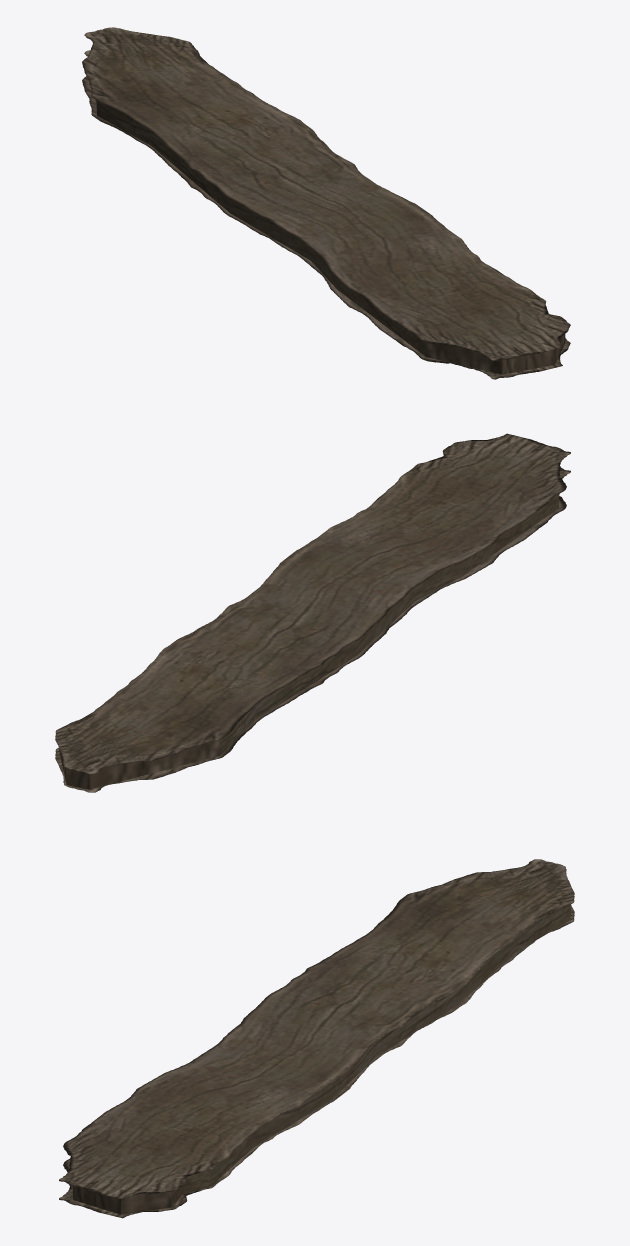
File: MEP_Plank_02.fbx
The picture shows the model from 3 angles, top to bottom: view 1: azimuth 30°, elevation 25°; view 2: azimuth 150°, elevation 25°; view 3: azimuth 330°, elevation 25°; orthographic projection. The views are drawn at different scales.
Visible parts, largest first — view 1: MEP_Plank_02; view 2: MEP_Plank_02; view 3: MEP_Plank_02.
Part boxes in pixels (x1,y1,x2,y2): MEP_Plank_02: (82,27,570,379); MEP_Plank_02: (55,433,570,792); MEP_Plank_02: (59,859,574,1218).
Bounding box in the file's own units: 0.4532 × 0.0498 × 2.19.
